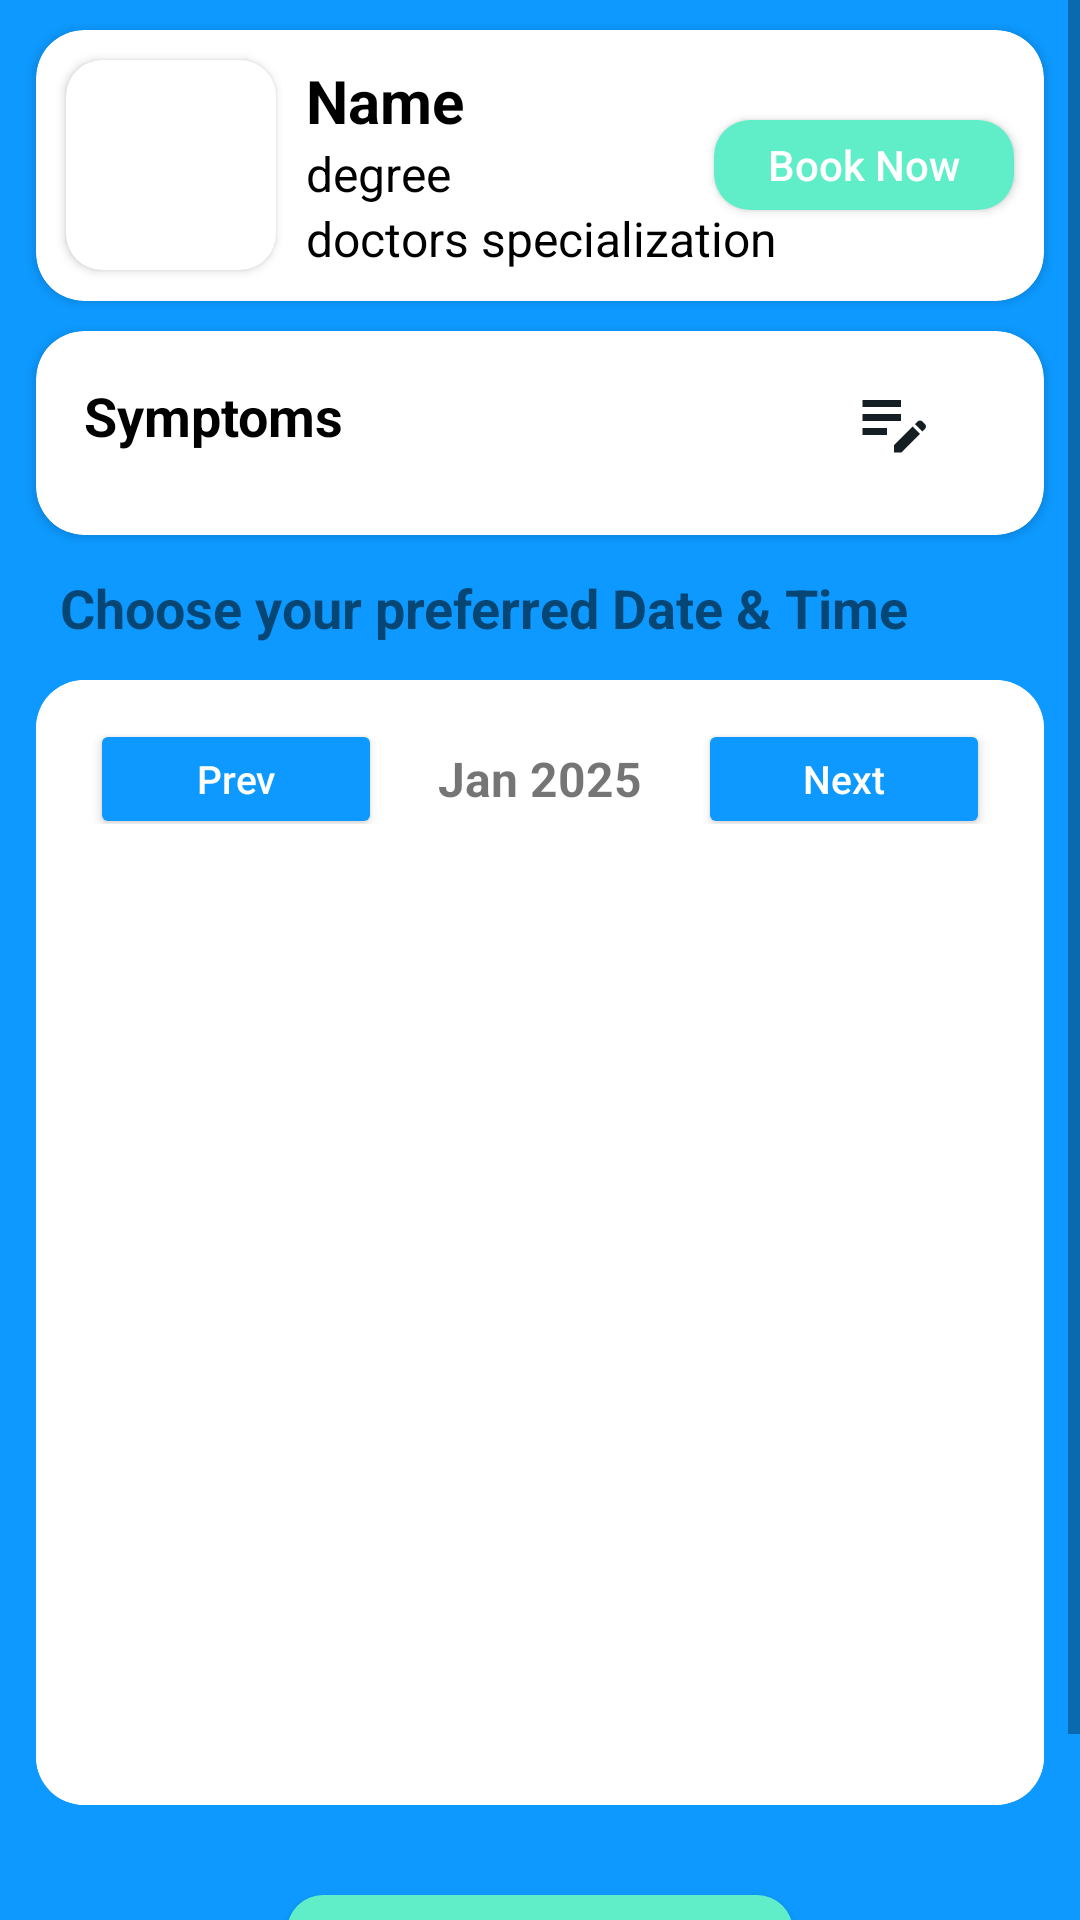

Named icons in this screenshot (1080px x 1920px) and their bounding boxes, (x1, y1, x2, y2):
edit note: (862, 400, 926, 453)
